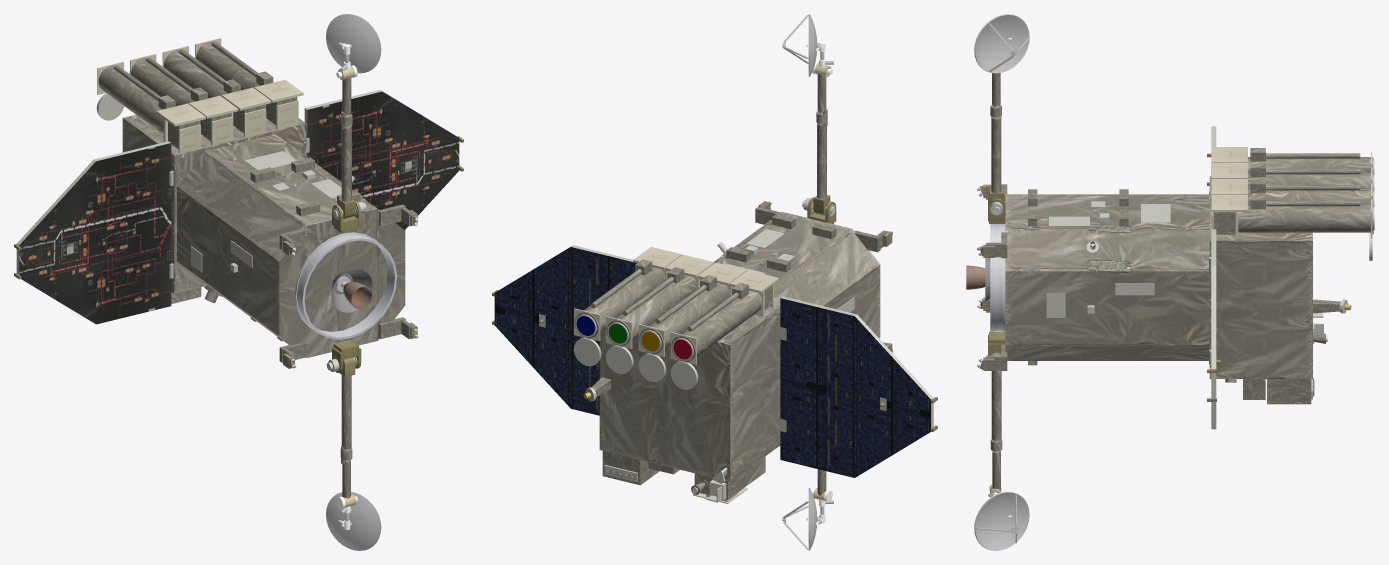
Rendered from sdo.glb.
3 renders of one model, left to right at view 1: azimuth 30°, elevation 25°; view 2: azimuth 150°, elevation 25°; view 3: azimuth 270°, elevation 25°, orthographic.
Parts seen in each view (by area): view 1: mesh02_greyfoil31_0, mesh148_material022_0, mesh163_greyfoil23_0, mesh150_material022_0, mesh47_nozboxes4_0, mesh65_material022_0, mesh44_material010_0, mesh115_material070_0, mesh84_material070_0, mesh71_greyfoil23_0, mesh155_greyfoil23_0, mesh18_material070_0; view 2: mesh163_greyfoil23_0, mesh148_material022_0, mesh150_material022_0, mesh02_greyfoil31_0, mesh47_nozboxes4_0, mesh49_material022_0, mesh65_material022_0, mesh71_greyfoil23_0, mesh115_material070_0, mesh84_material070_0, mesh44_material010_0; view 3: mesh02_greyfoil31_0, mesh163_greyfoil23_0, mesh47_nozboxes4_0, mesh65_material022_0, mesh84_material070_0, mesh115_material070_0, mesh44_material010_0, mesh71_greyfoil23_0, mesh150_material022_0, mesh155_greyfoil23_0.
Boxes of the visible parts, x1=… form: mesh02_greyfoil31_0: x1=177, y1=134, x2=405, y2=357; mesh148_material022_0: x1=14, y1=141, x2=171, y2=324; mesh163_greyfoil23_0: x1=98, y1=41, x2=417, y2=368; mesh150_material022_0: x1=304, y1=90, x2=463, y2=229; mesh47_nozboxes4_0: x1=97, y1=38, x2=372, y2=308; mesh65_material022_0: x1=169, y1=138, x2=418, y2=372; mesh44_material010_0: x1=291, y1=203, x2=418, y2=370; mesh115_material070_0: x1=326, y1=14, x2=381, y2=73; mesh84_material070_0: x1=326, y1=492, x2=381, y2=550; mesh71_greyfoil23_0: x1=341, y1=78, x2=352, y2=202; mesh155_greyfoil23_0: x1=340, y1=375, x2=352, y2=498; mesh18_material070_0: x1=204, y1=268, x2=373, y2=313; mesh163_greyfoil23_0: x1=574, y1=201, x2=892, y2=499; mesh148_material022_0: x1=780, y1=296, x2=937, y2=477; mesh150_material022_0: x1=492, y1=245, x2=636, y2=415; mesh02_greyfoil31_0: x1=714, y1=212, x2=880, y2=338; mesh47_nozboxes4_0: x1=574, y1=247, x2=778, y2=503; mesh49_material022_0: x1=573, y1=337, x2=698, y2=389; mesh65_material022_0: x1=584, y1=197, x2=892, y2=502; mesh71_greyfoil23_0: x1=816, y1=74, x2=827, y2=198; mesh115_material070_0: x1=782, y1=14, x2=833, y2=76; mesh84_material070_0: x1=782, y1=488, x2=833, y2=550; mesh44_material010_0: x1=575, y1=200, x2=892, y2=493; mesh02_greyfoil31_0: x1=1005, y1=194, x2=1209, y2=360; mesh163_greyfoil23_0: x1=983, y1=148, x2=1373, y2=399; mesh47_nozboxes4_0: x1=966, y1=147, x2=1372, y2=404; mesh65_material022_0: x1=980, y1=185, x2=1373, y2=399; mesh84_material070_0: x1=974, y1=491, x2=1029, y2=550; mesh115_material070_0: x1=974, y1=14, x2=1029, y2=73; mesh44_material010_0: x1=977, y1=159, x2=1374, y2=395; mesh71_greyfoil23_0: x1=990, y1=73, x2=1001, y2=193; mesh150_material022_0: x1=1207, y1=229, x2=1220, y2=429; mesh155_greyfoil23_0: x1=990, y1=370, x2=1002, y2=490.
Size of the model in its own units: 35.84 by 41.25 by 28.51.
Materials: 11 (5 with a texture image).
